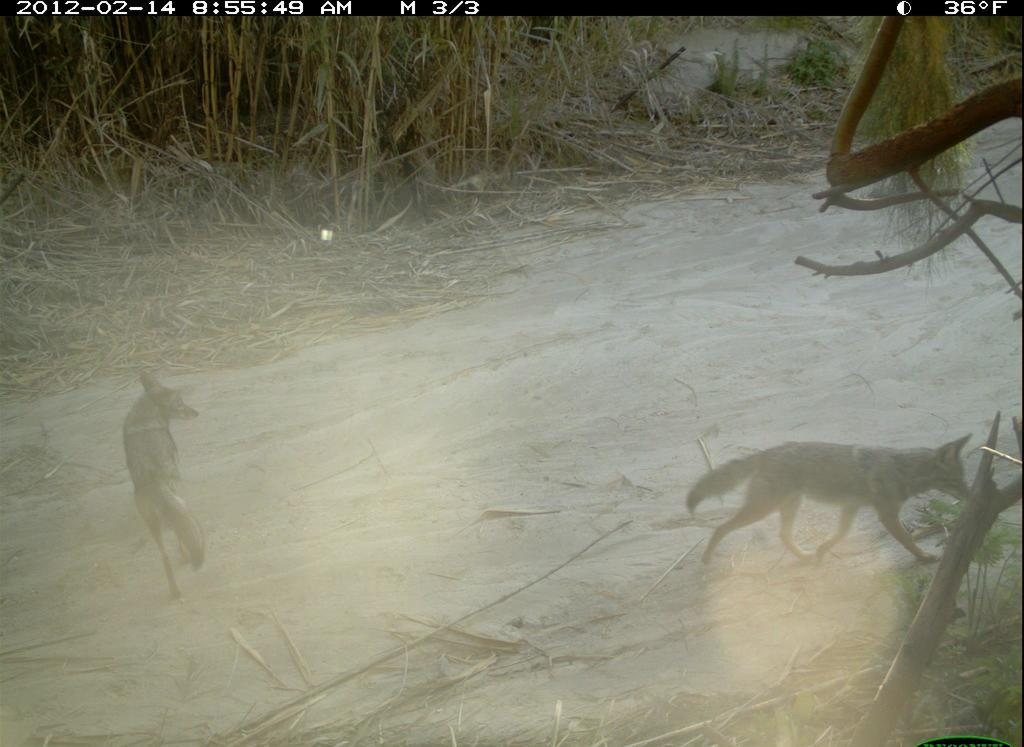coyote: (652, 404, 999, 587), (113, 369, 233, 614)
